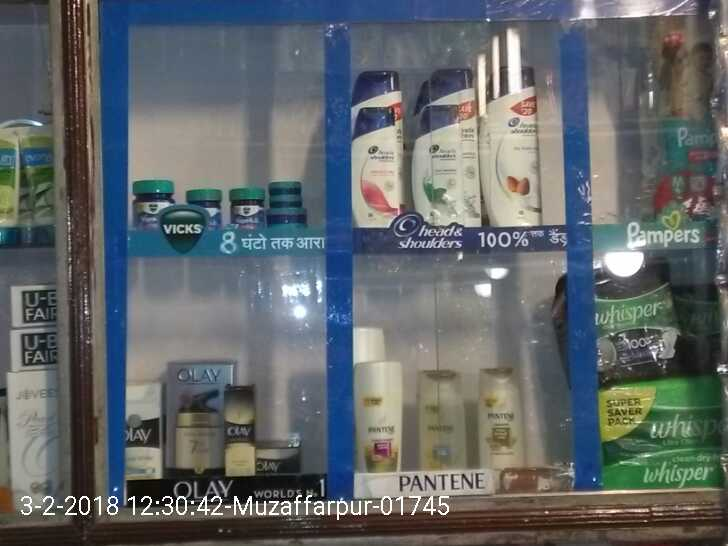vicks: (123, 176, 306, 233)
